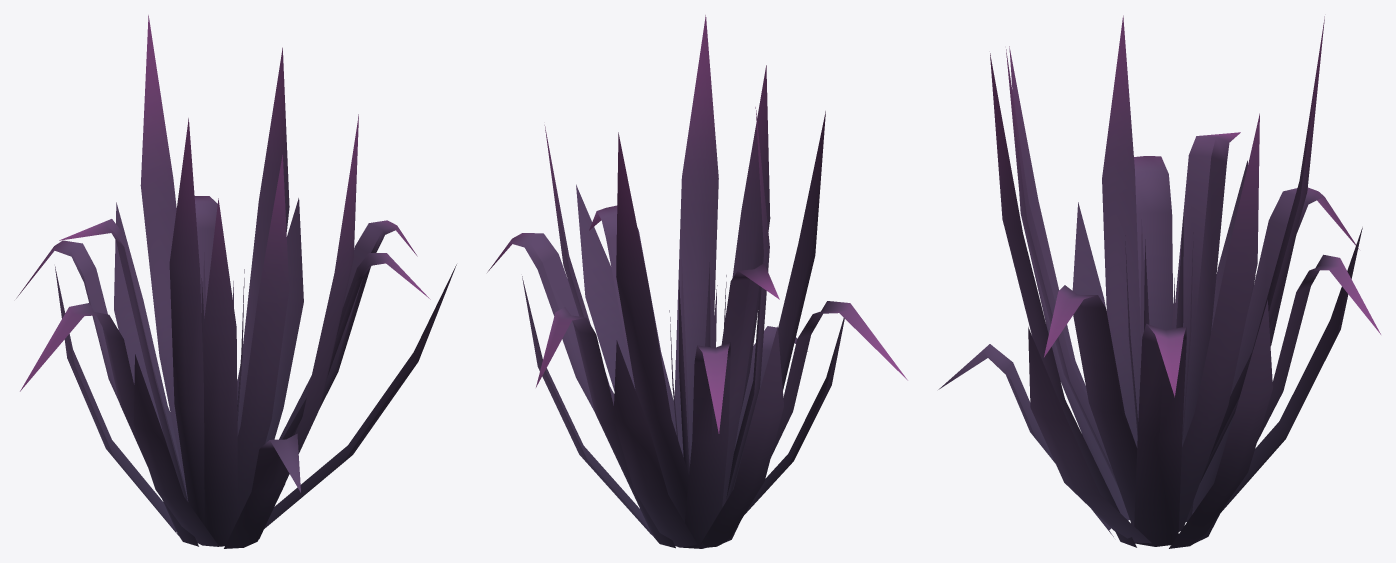
The model's file is plant_16.fbx.
The picture shows the model from 3 angles, left to right: view 1: azimuth 30°, elevation 25°; view 2: azimuth 150°, elevation 25°; view 3: azimuth 270°, elevation 25°; orthographic projection. The views are drawn at different scales.
Visible parts, largest first — view 1: plant_16; view 2: plant_16; view 3: plant_16.
Boxes of the visible parts, left/top/right/bottom form: plant_16: left=16, top=15, right=456, bottom=548; plant_16: left=487, top=15, right=907, bottom=548; plant_16: left=938, top=15, right=1380, bottom=548.
Size of the model in its own units: 2.38 by 2.52 by 1.97.
